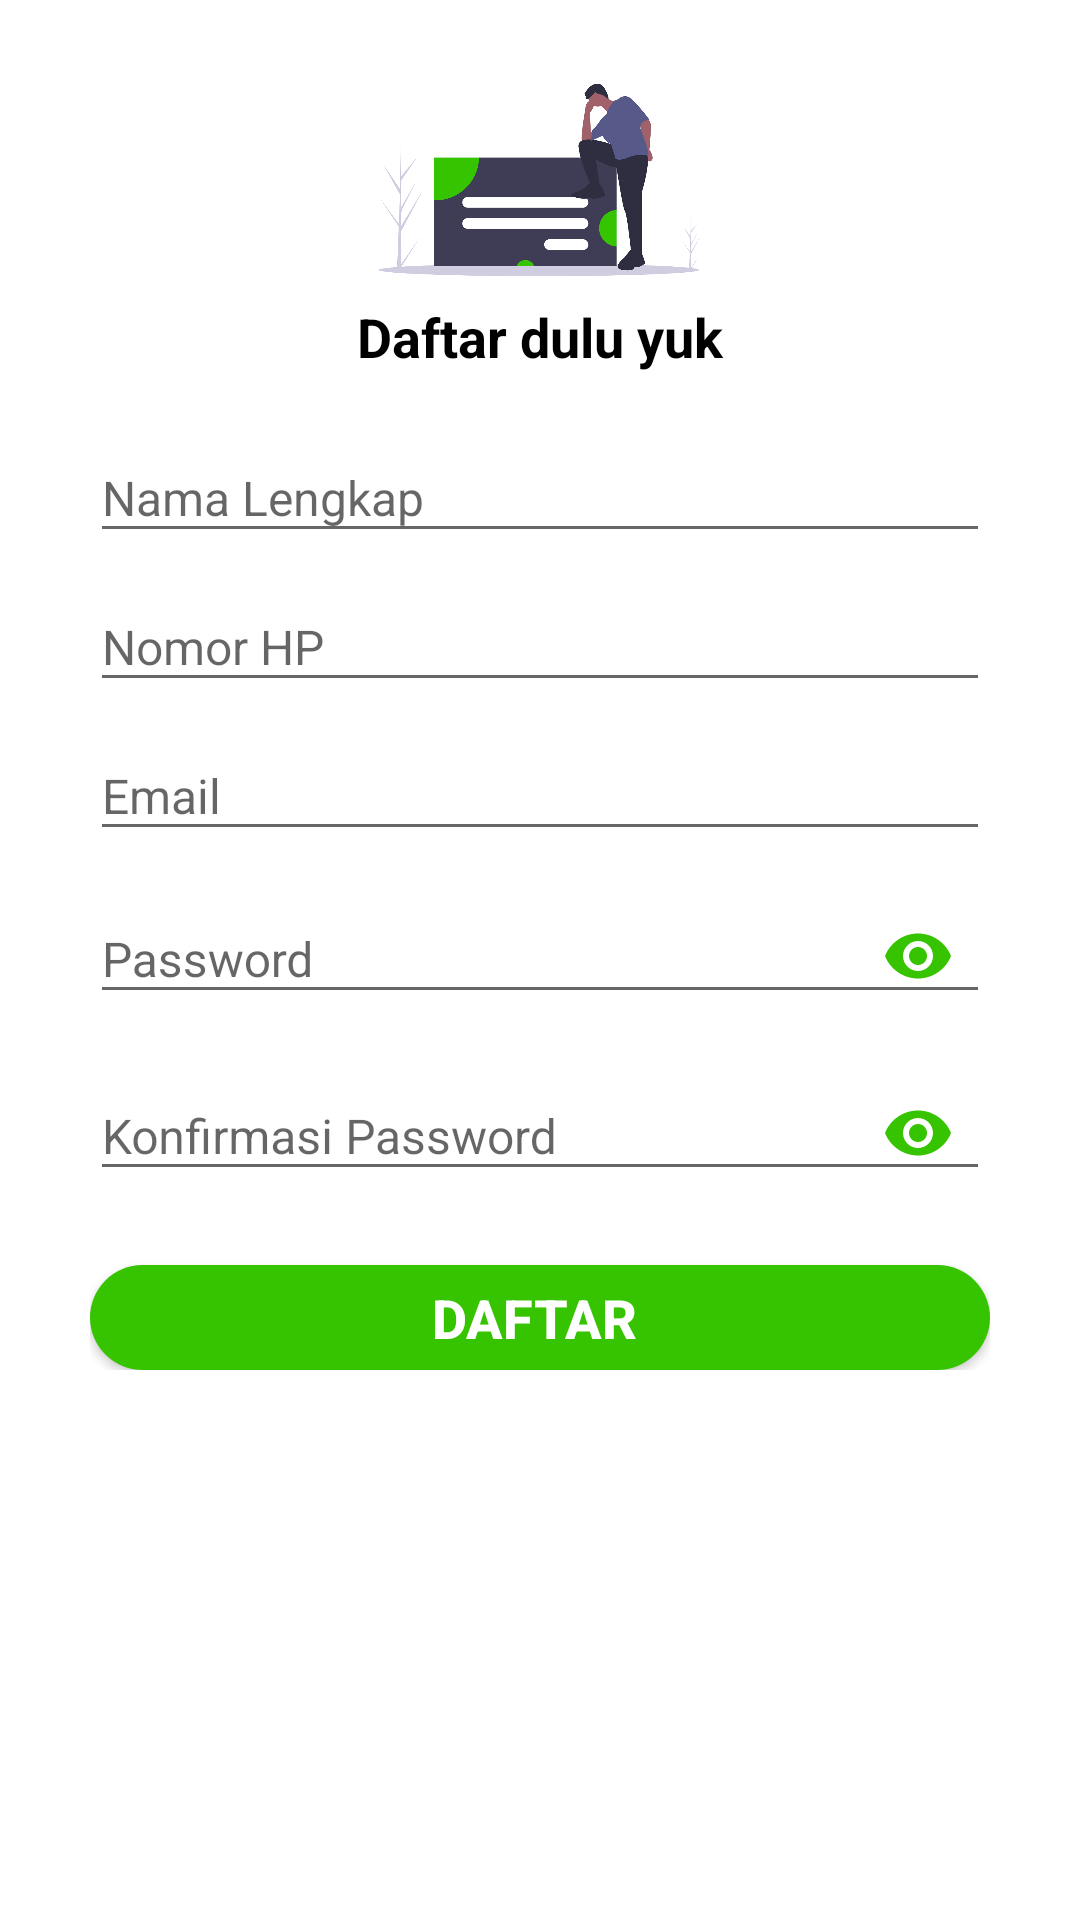

Locate icon controls on the screen. Image size 1080x1920, boxes as (x1, y1, x2, y2).
undraw sign in: (379, 84, 699, 276)
